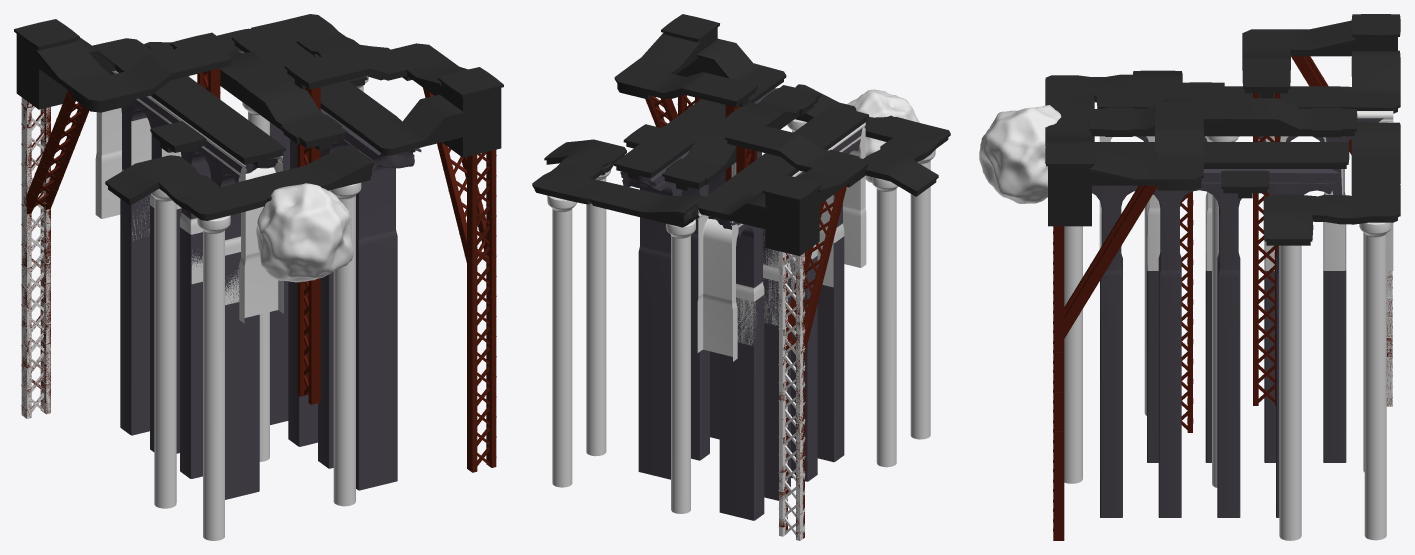
The model's file is StageV1.fbx.
3 renders of one model, left to right at view 1: azimuth 30°, elevation 25°; view 2: azimuth 150°, elevation 25°; view 3: azimuth 270°, elevation 25°, orthographic. The views are drawn at different scales.
Parts seen in each view (by area): view 1: Stage, CollapsedBridge, Pillar.001, Beams, Cube.002, Icosphere, Beams.001, Pillar; view 2: Stage, CollapsedBridge, Pillar.001, Cube.002, Beams.001, Beams, Icosphere; view 3: Stage, CollapsedBridge, Pillar.001, Beams, Icosphere, Cube.002, Pillar, Beams.001.
Part boxes in pixels (left/top/right/bottom): Stage: left=14, top=14, right=503, bottom=220; CollapsedBridge: left=108, top=51, right=421, bottom=499; Pillar.001: left=151, top=76, right=368, bottom=540; Beams: left=21, top=68, right=496, bottom=472; Cube.002: left=95, top=70, right=283, bottom=323; Icosphere: left=256, top=183, right=353, bottom=282; Beams.001: left=21, top=97, right=50, bottom=418; Pillar: left=242, top=102, right=269, bottom=461; Stage: left=532, top=14, right=950, bottom=255; CollapsedBridge: left=620, top=88, right=862, bottom=520; Pillar.001: left=547, top=119, right=935, bottom=513; Cube.002: left=697, top=122, right=866, bottom=361; Beams.001: left=778, top=251, right=805, bottom=540; Beams: left=645, top=95, right=847, bottom=539; Icosphere: left=847, top=89, right=919, bottom=182; Stage: left=1045, top=14, right=1400, bottom=245; CollapsedBridge: left=1092, top=118, right=1383, bottom=517; Pillar.001: left=1064, top=204, right=1392, bottom=540; Beams: left=1053, top=56, right=1392, bottom=540; Icosphere: left=979, top=105, right=1061, bottom=203; Cube.002: left=1099, top=111, right=1393, bottom=270; Pillar: left=1207, top=136, right=1238, bottom=487; Beams.001: left=1386, top=271, right=1392, bottom=406.
Size of the model in its own units: 7308 by 7973 by 7710.
